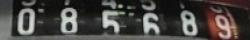digits: (16, 7, 35, 34), (59, 6, 78, 32), (100, 10, 119, 36), (179, 10, 198, 35), (214, 15, 231, 38), (142, 13, 159, 36)
